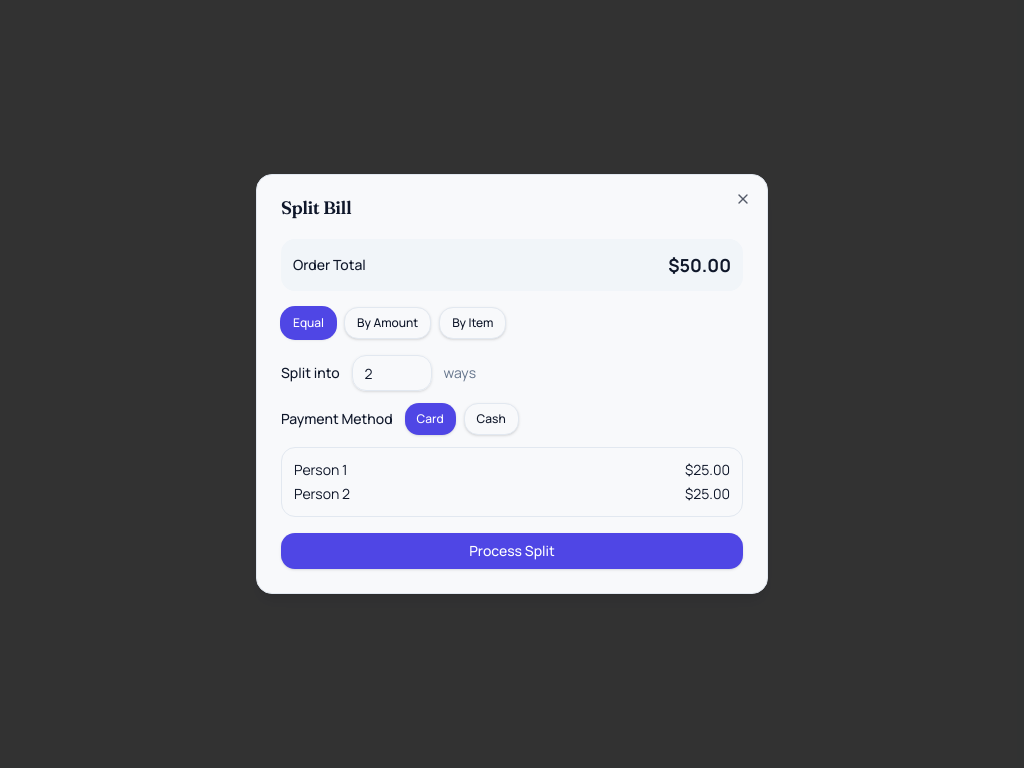
Test: SplitBillDialog › switches to By Amount mode when clicked
Click the button "By Amount" at (388, 323), box x1=344 y1=307 x2=431 y2=339
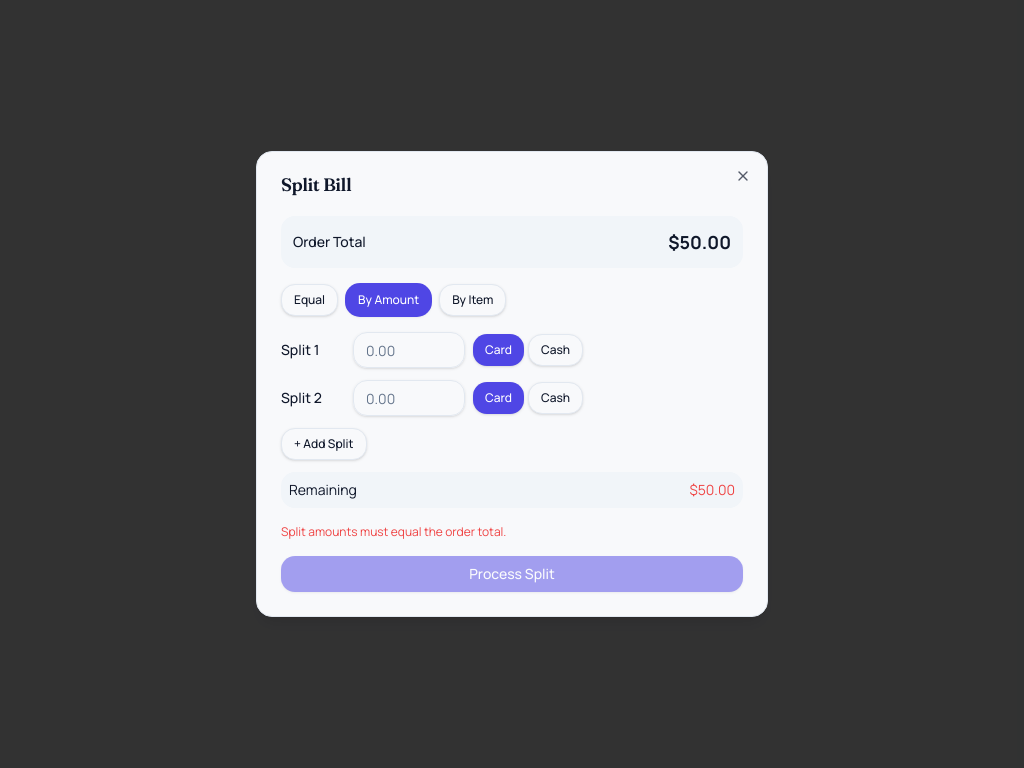
Now the text "Split 1" is shown, box x1=281 y1=340 x2=320 y2=359
Now the text "Split 2" is shown, box x1=281 y1=388 x2=322 y2=407
Now the text "Remaining" is shown, box x1=289 y1=480 x2=357 y2=500
